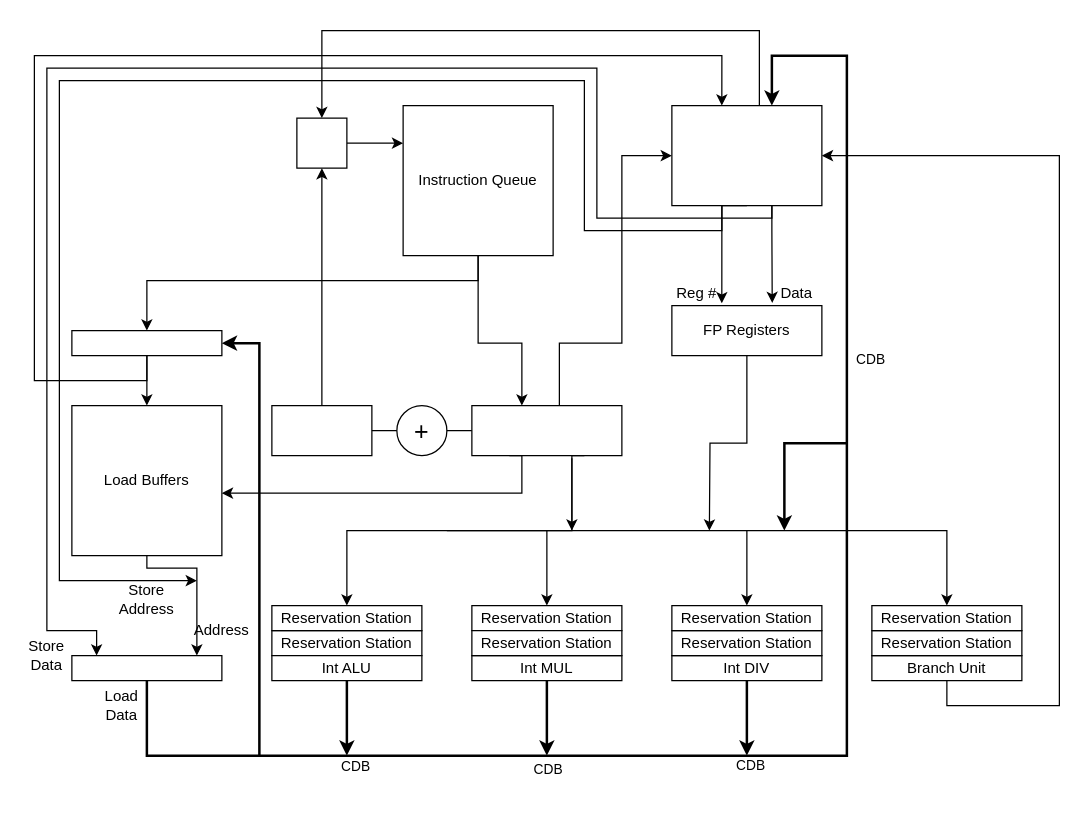
Image size: 1091x815. Some labels were removed from this diagram. The shapes that lost their labels are listed below. From the top down, each one's box as (x1, y1, x2, y2) in pixels, then its label:
(296, 117, 347, 168): PC
(671, 104, 822, 206): Reorder Buffer
(71, 329, 222, 356): Address Unit
(271, 404, 372, 456): BTB
(471, 404, 622, 456): Issue Unit
(71, 654, 222, 681): Memory Unit
